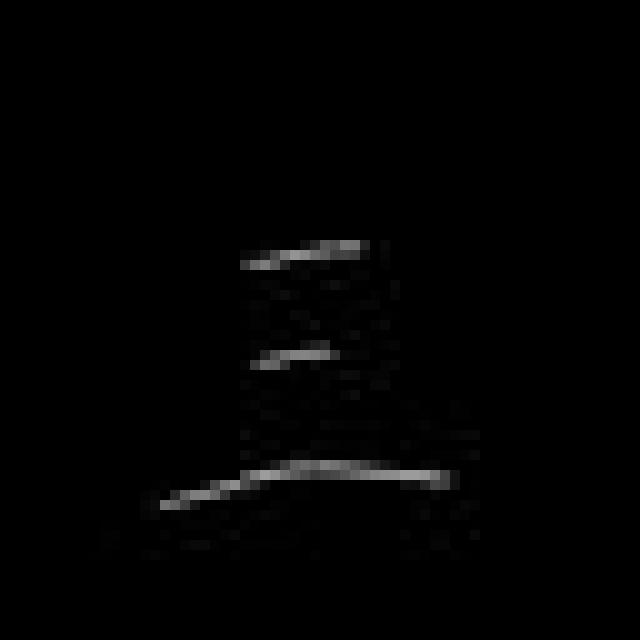3 -three-: (145, 228, 465, 532)
